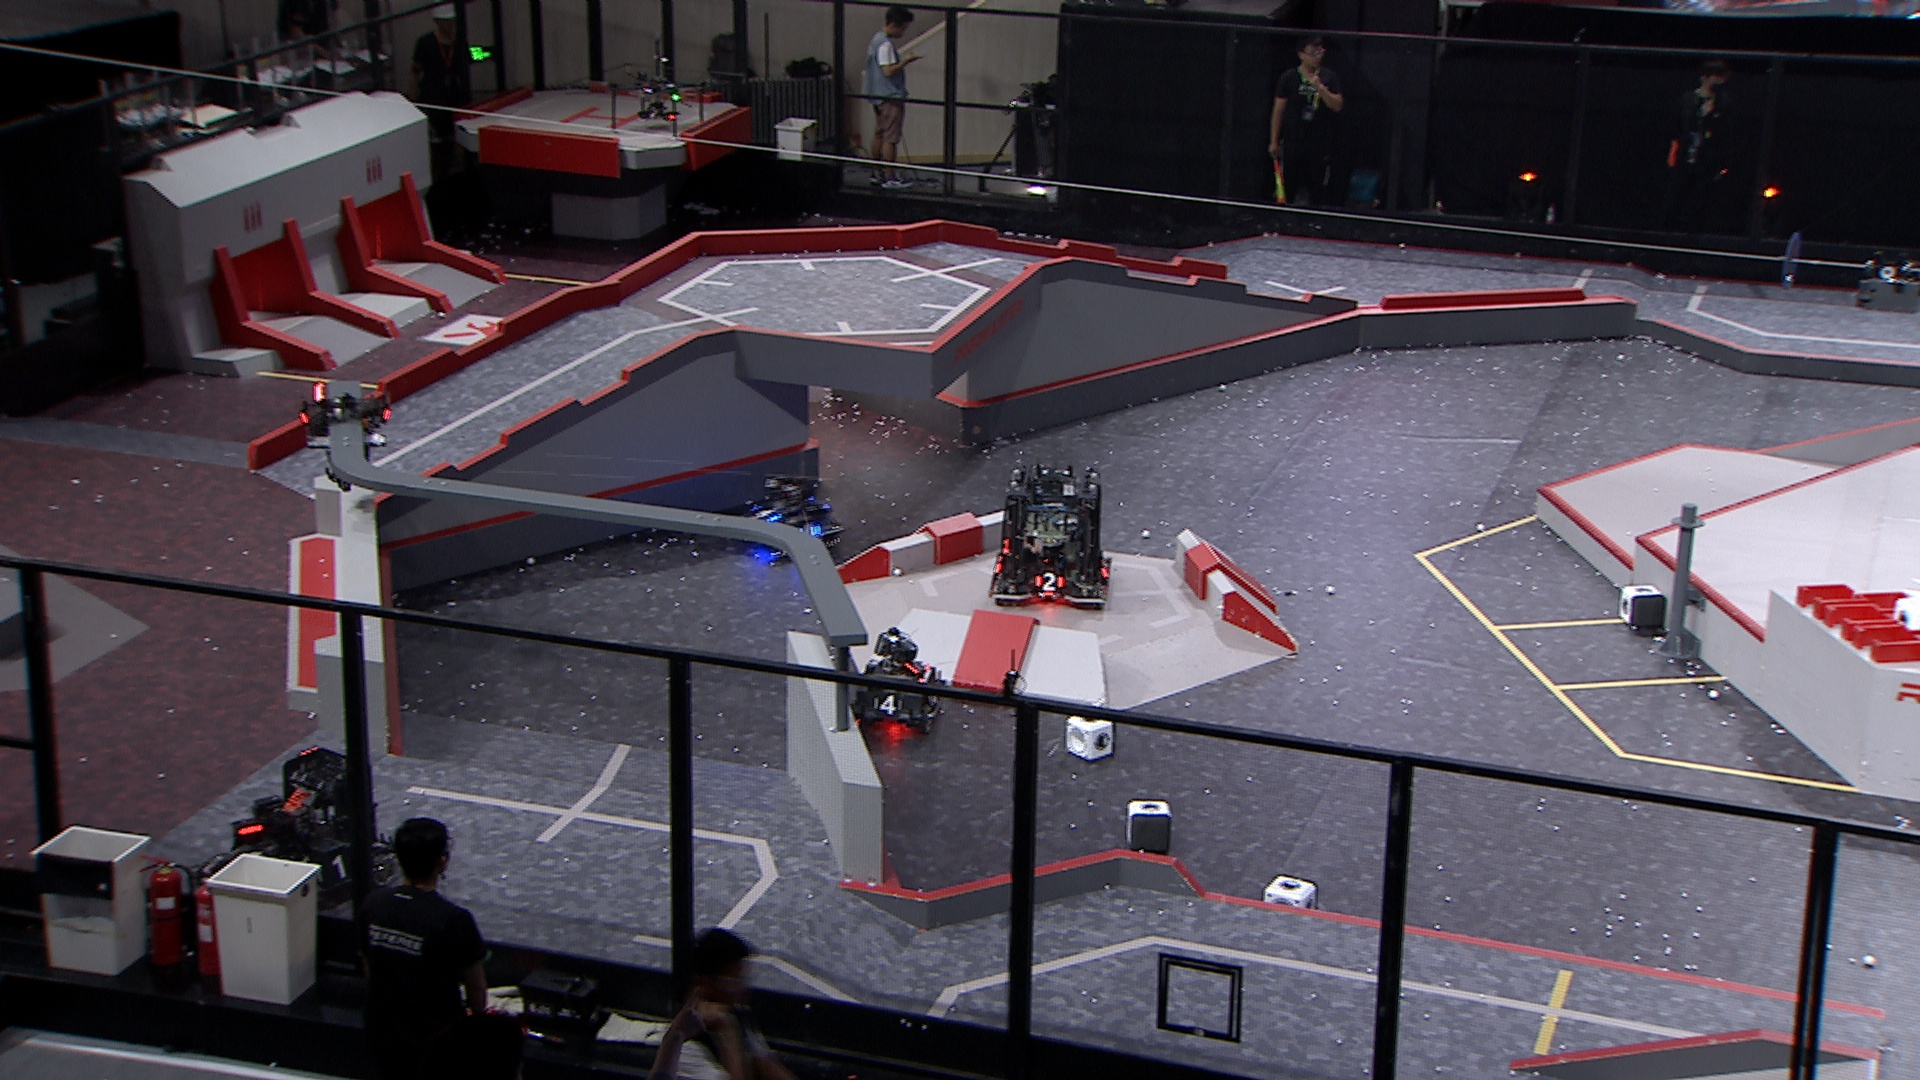armor: (316, 855, 352, 887), (873, 695, 905, 717), (752, 501, 783, 524), (1033, 571, 1067, 591), (795, 520, 823, 538)
car: (200, 745, 400, 913), (986, 465, 1112, 609), (849, 629, 945, 738), (733, 475, 845, 566)
watcher: (301, 380, 392, 491)
